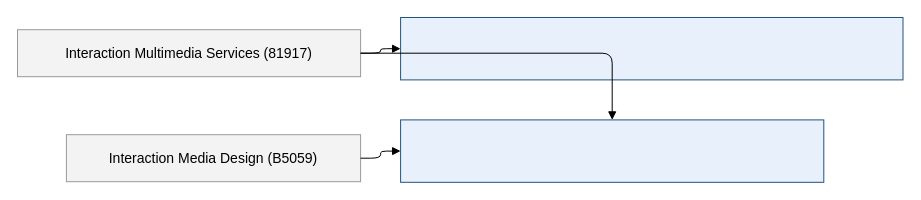
Some shapes in this 921 by 200 pixel diagram are drawn without their labels. Each missing label, with the centre of its shape:
"Human-Centered Design: Service Mapping and Usability Testing 3 ECTS" belongs at point 651,48.
"Human-Centered Design: User Research and Framing 3 ECTS" belongs at point 612,150.
